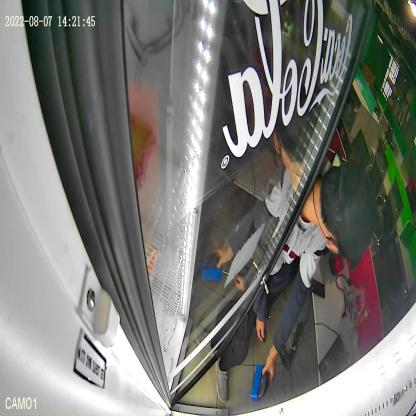blue: (250, 364, 269, 402)
